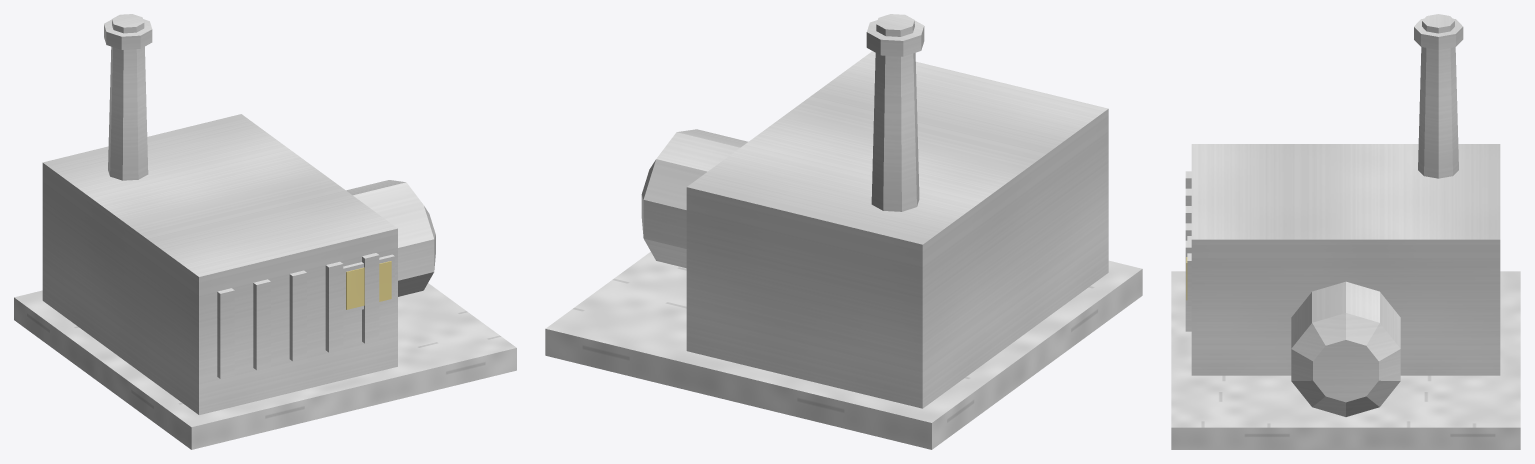
The model's file is chemfuel_generator.obj.
3 views of the same model, side by side, from view 1: azimuth 30°, elevation 25°; view 2: azimuth 150°, elevation 25°; view 3: azimuth 270°, elevation 25° (orthographic). The views are drawn at different scales.
Parts seen in each view (by area): view 1: chemfuel_generator; view 2: chemfuel_generator; view 3: chemfuel_generator.
Part boxes in pixels (<box>): chemfuel_generator: <box>14,14,516,449</box>; chemfuel_generator: <box>545,14,1142,449</box>; chemfuel_generator: <box>1171,14,1520,449</box>.
Size of the model in its own units: 1.8 by 1.65 by 1.7.
